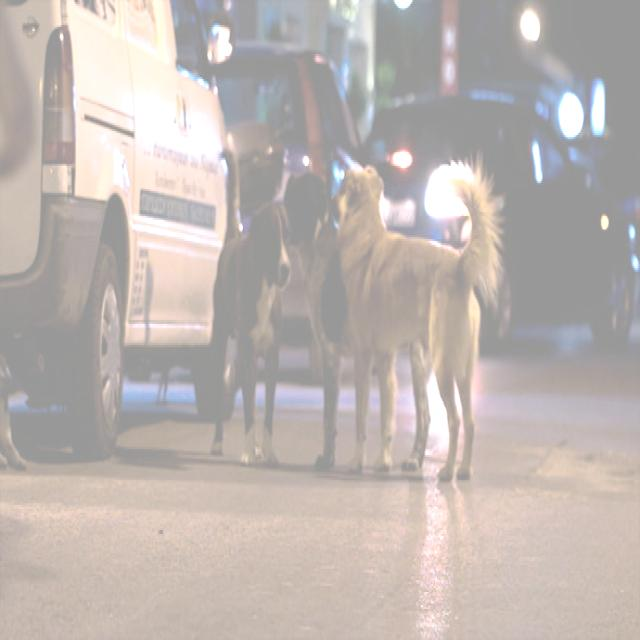Dog: (196, 119, 509, 526)
